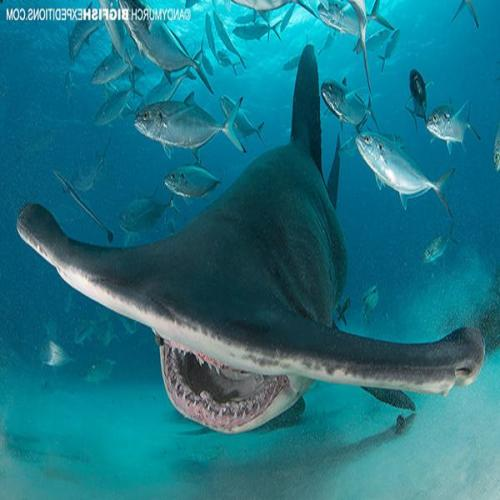shark-endangered: (15, 43, 486, 438)
